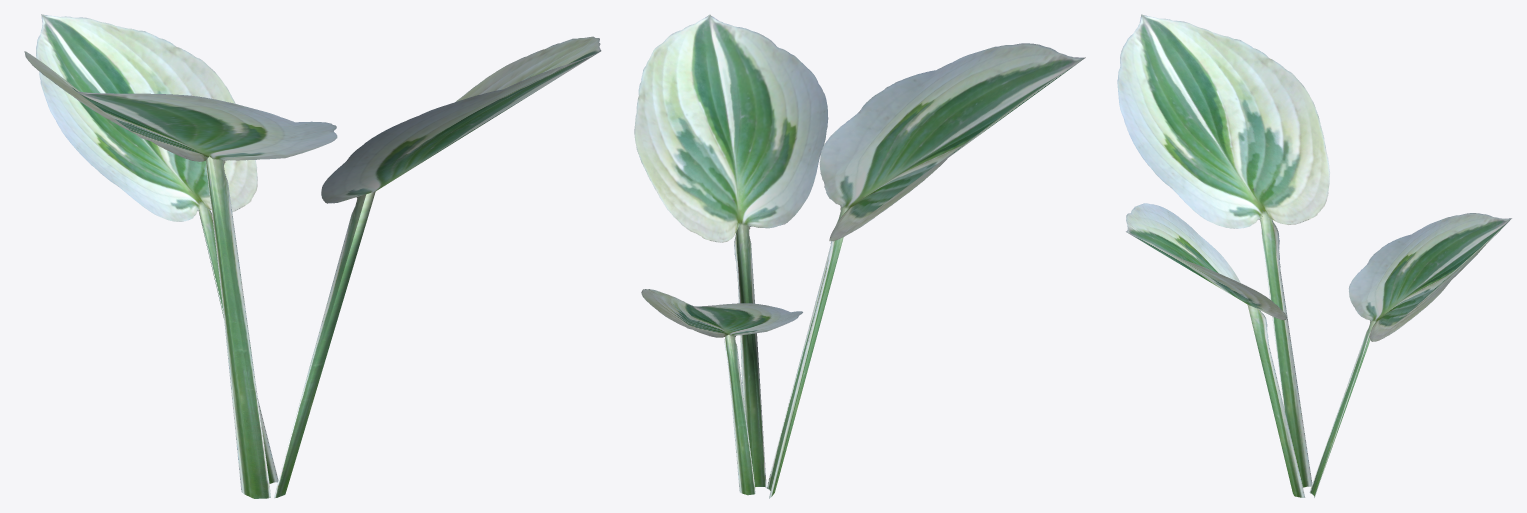
File: plant_small_wg_01I.fbx
The picture shows the model from 3 angles, left to right: view 1: azimuth 30°, elevation 25°; view 2: azimuth 150°, elevation 25°; view 3: azimuth 270°, elevation 25°; orthographic projection. The views are drawn at different scales.
Visible parts, largest first — view 1: plant_small_wg_01I; view 2: plant_small_wg_01I; view 3: plant_small_wg_01I.
Part boxes in pixels (x1=…): plant_small_wg_01I: x1=24, y1=14, x2=601, y2=498; plant_small_wg_01I: x1=634, y1=14, x2=1085, y2=498; plant_small_wg_01I: x1=1117, y1=14, x2=1511, y2=497.
Bounding box in the file's own units: 42.52 × 41.67 × 39.84.
